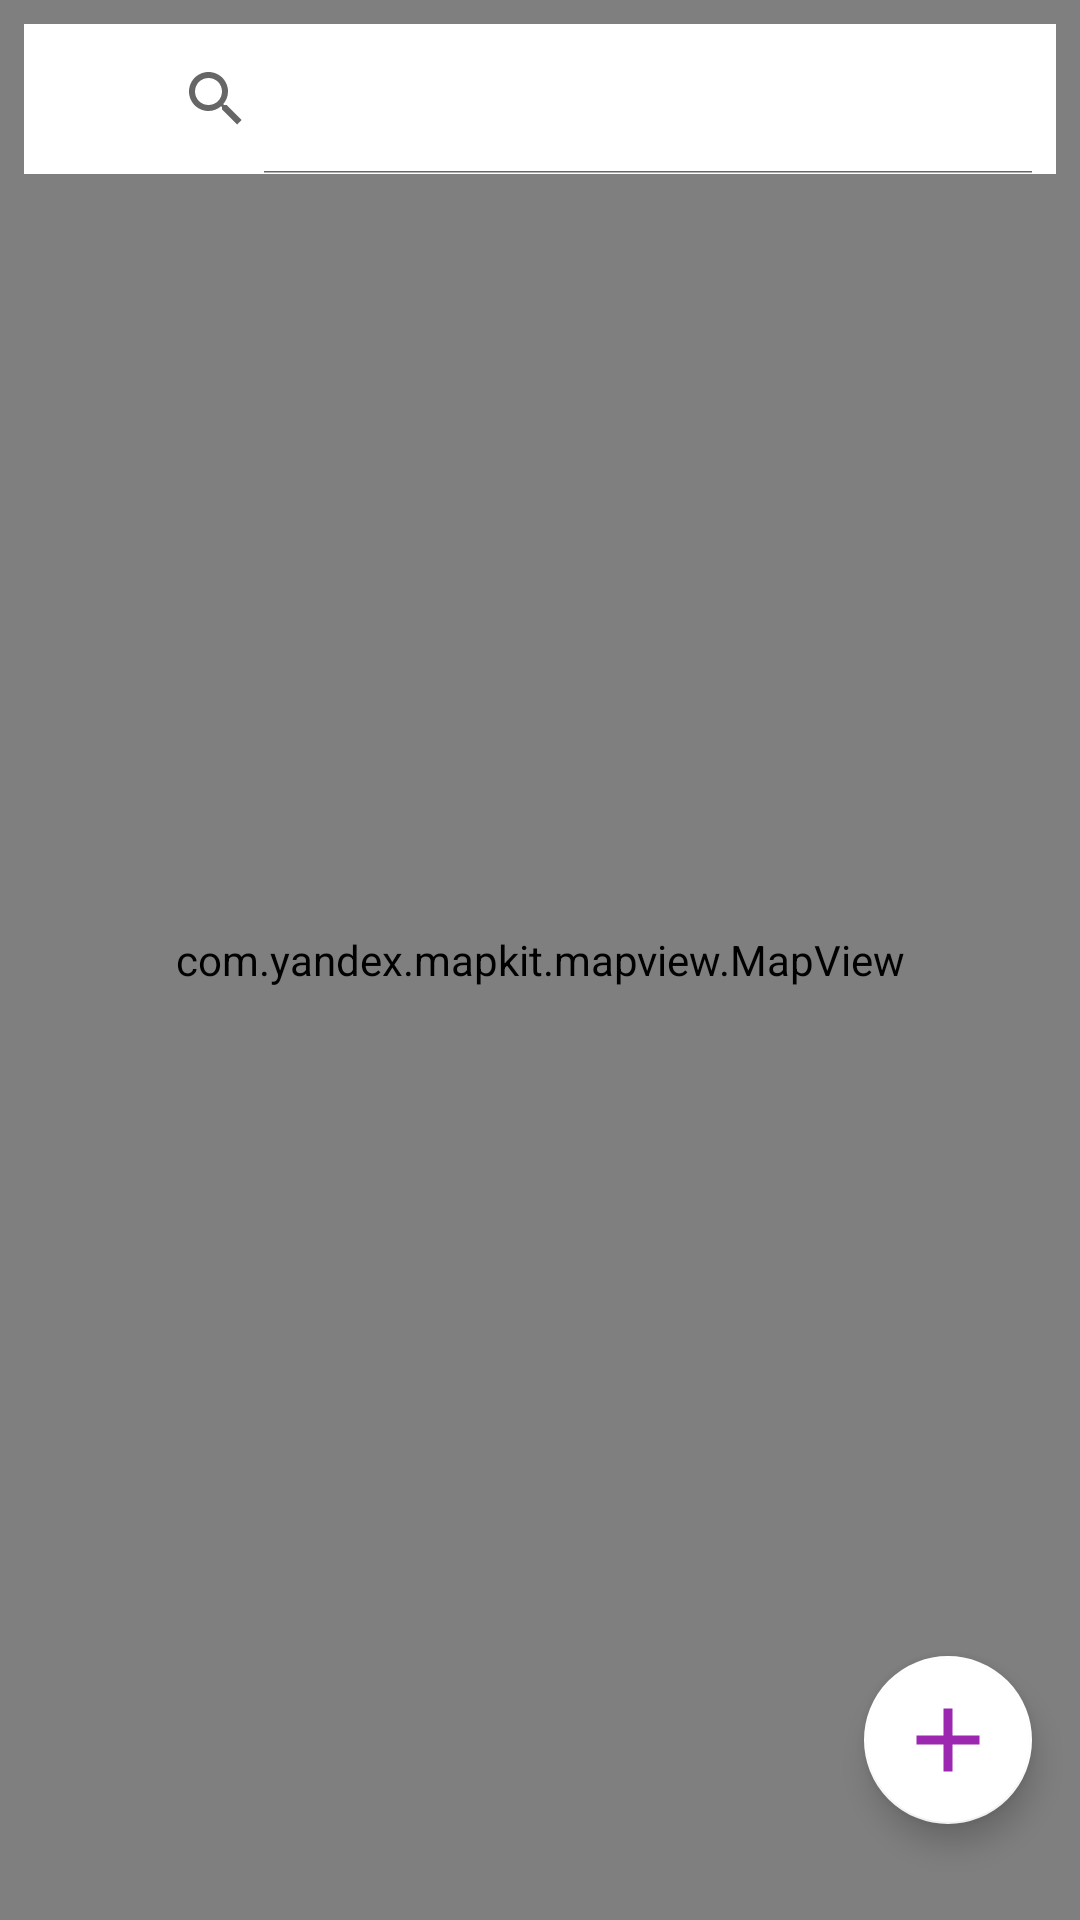

Named icons in this screenshot (1080*1920) and their bounding boxes, detection(x1, y1, x2, y2):
plus: detection(864, 1656, 1032, 1824)
